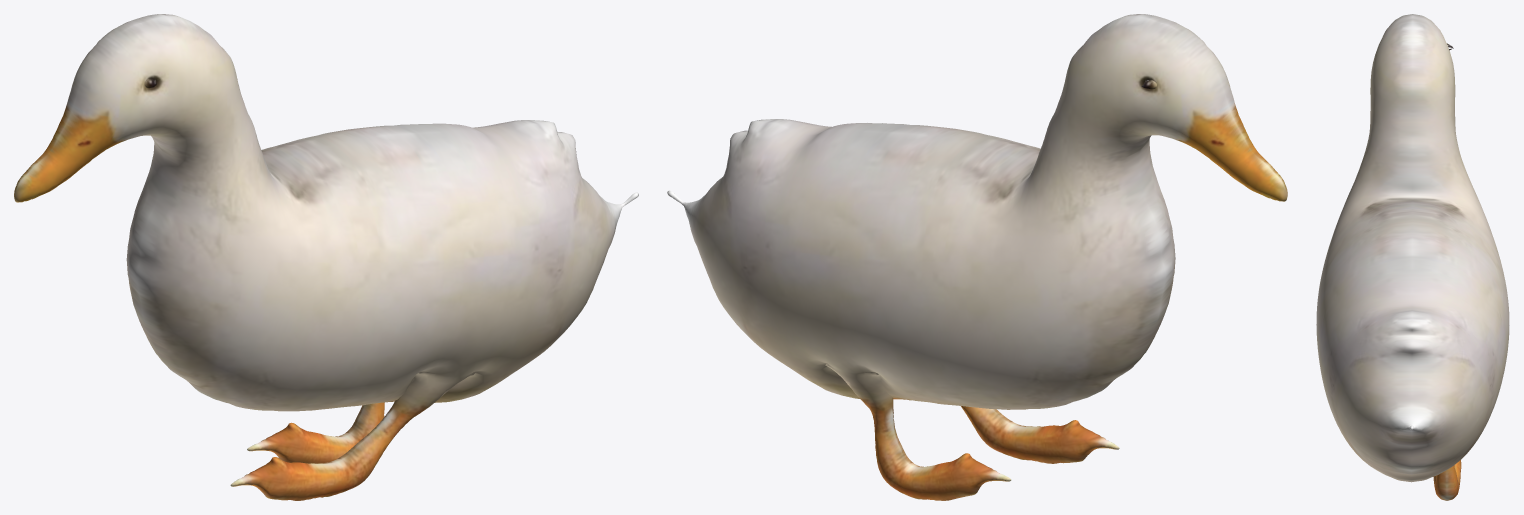
3 renders of one model, left to right at view 1: azimuth 30°, elevation 25°; view 2: azimuth 150°, elevation 25°; view 3: azimuth 270°, elevation 25°, orthographic. The views are drawn at different scales.
Size of the model in its own units: 8.38 by 6.62 by 2.92.
Materials: 1 (1 with a texture image).
